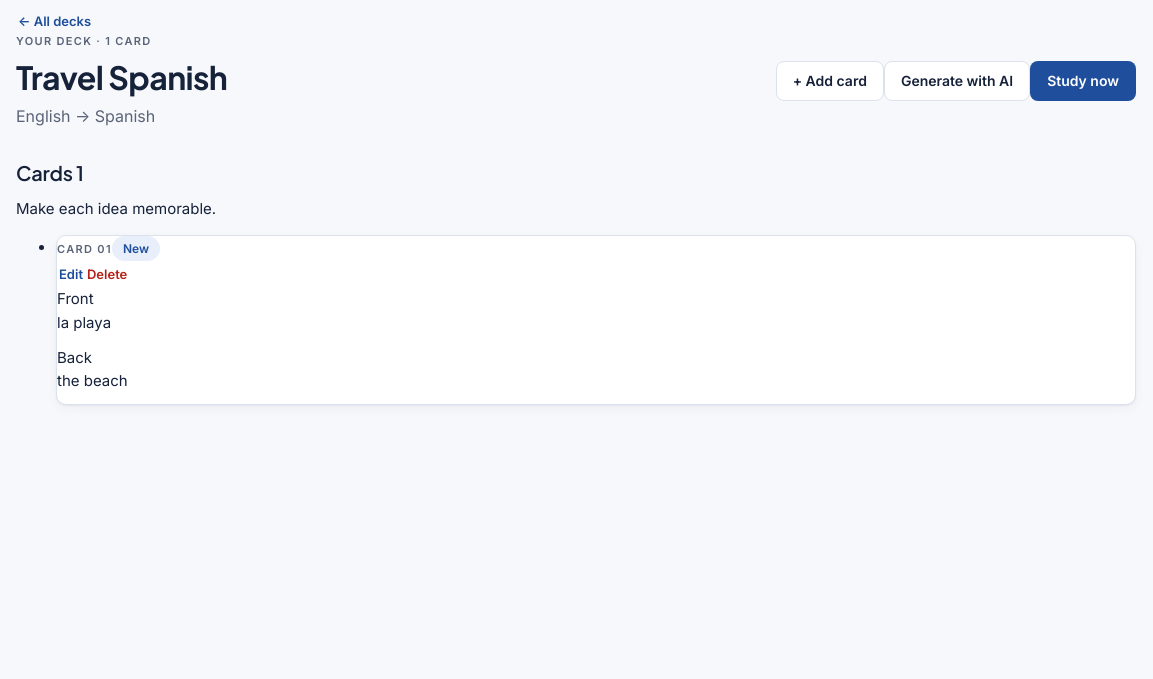
Test case: editing a card saves it and shows the new text
Click the button with aria-label "Edit card 1".
click(71, 274)  # box [57, 261, 85, 287]
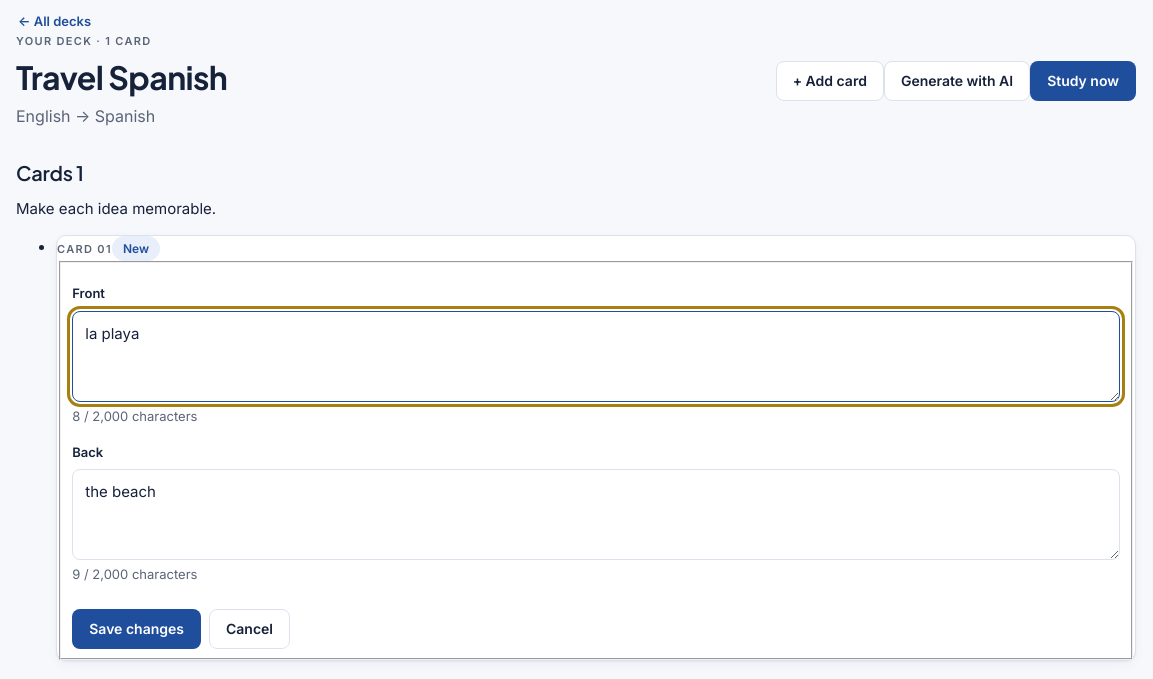
Replace the text in the text box labelled "Back" with "the beach (f.)" at coordinates (596, 515), box [72, 469, 1120, 560]
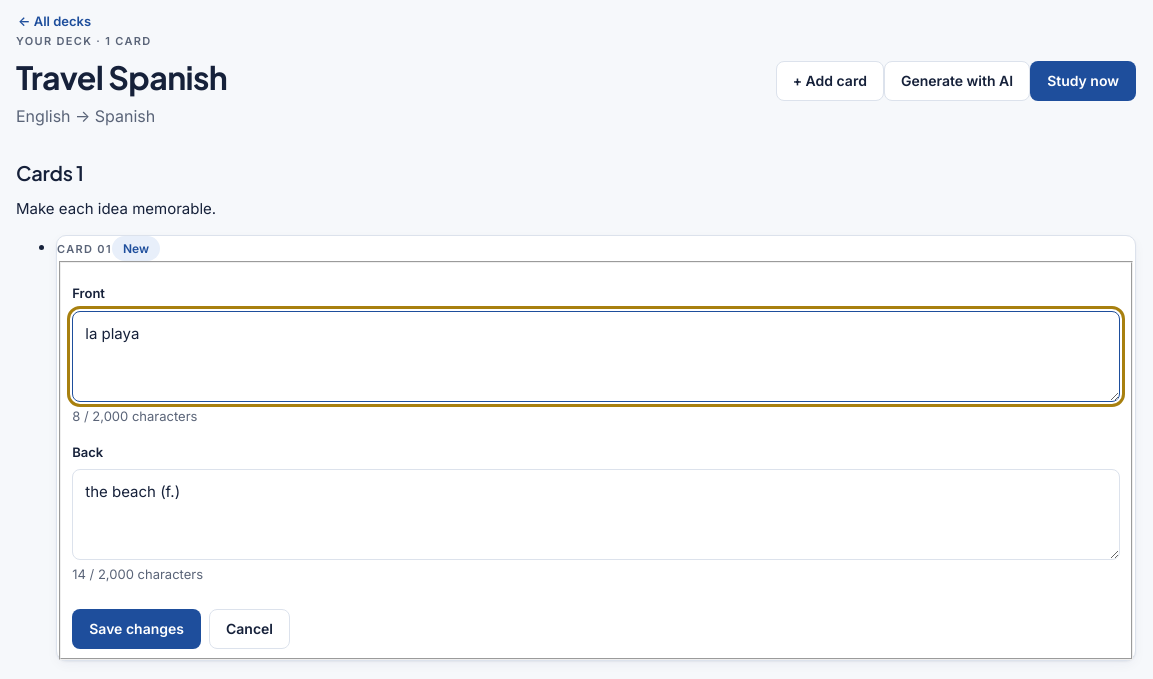
Click the button "Save changes".
click(137, 629)  # box [72, 609, 201, 649]
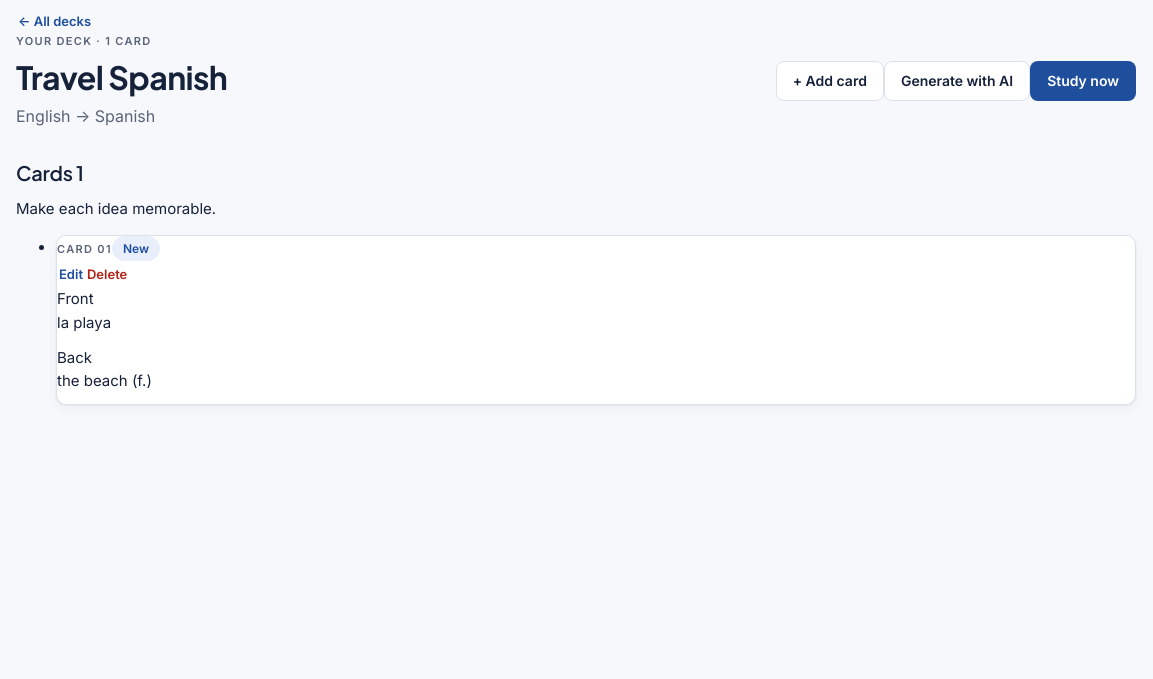
Check: the text "the beach (f.)" is shown, box [57, 371, 152, 390]
